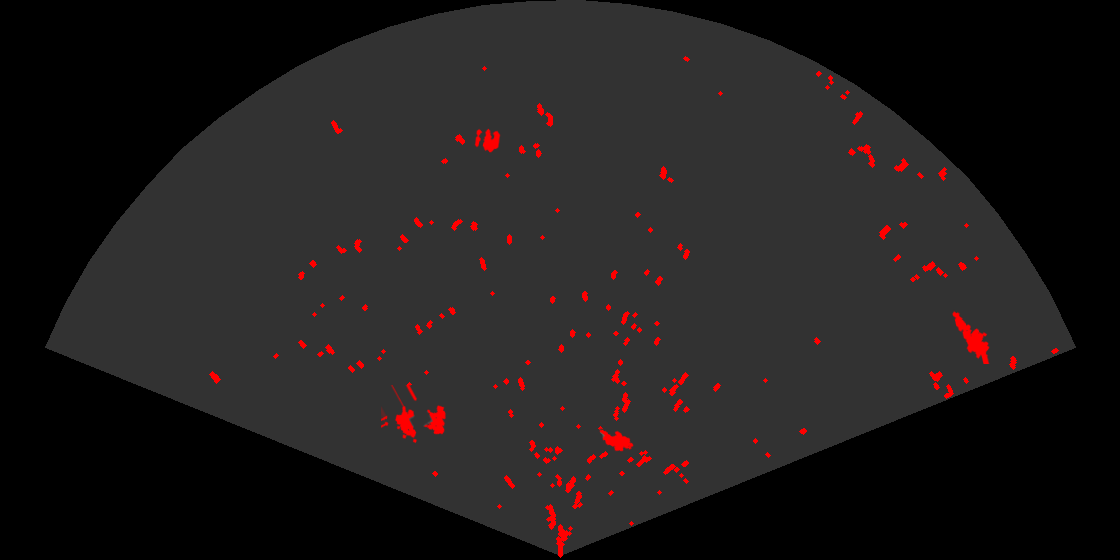AUV: (598, 428, 635, 453)
ball: (473, 127, 502, 154)
cage: (381, 385, 448, 445)
frogman: (951, 309, 991, 364)
